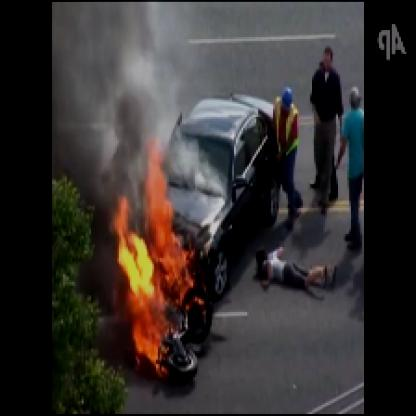Fire: (106, 126, 213, 381)
Smoke: (54, 2, 169, 173)
